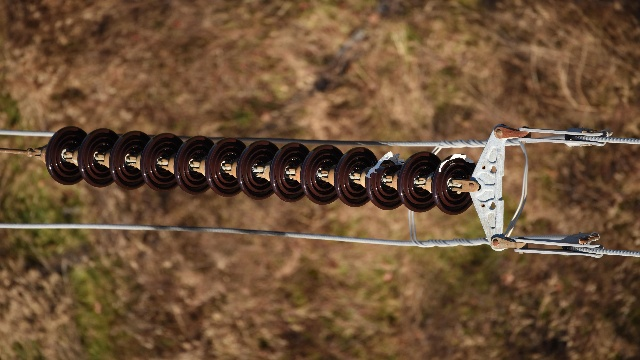broken_local: (365, 150, 408, 180), (438, 152, 477, 174)
insulator_unspecified: (46, 125, 477, 213)
